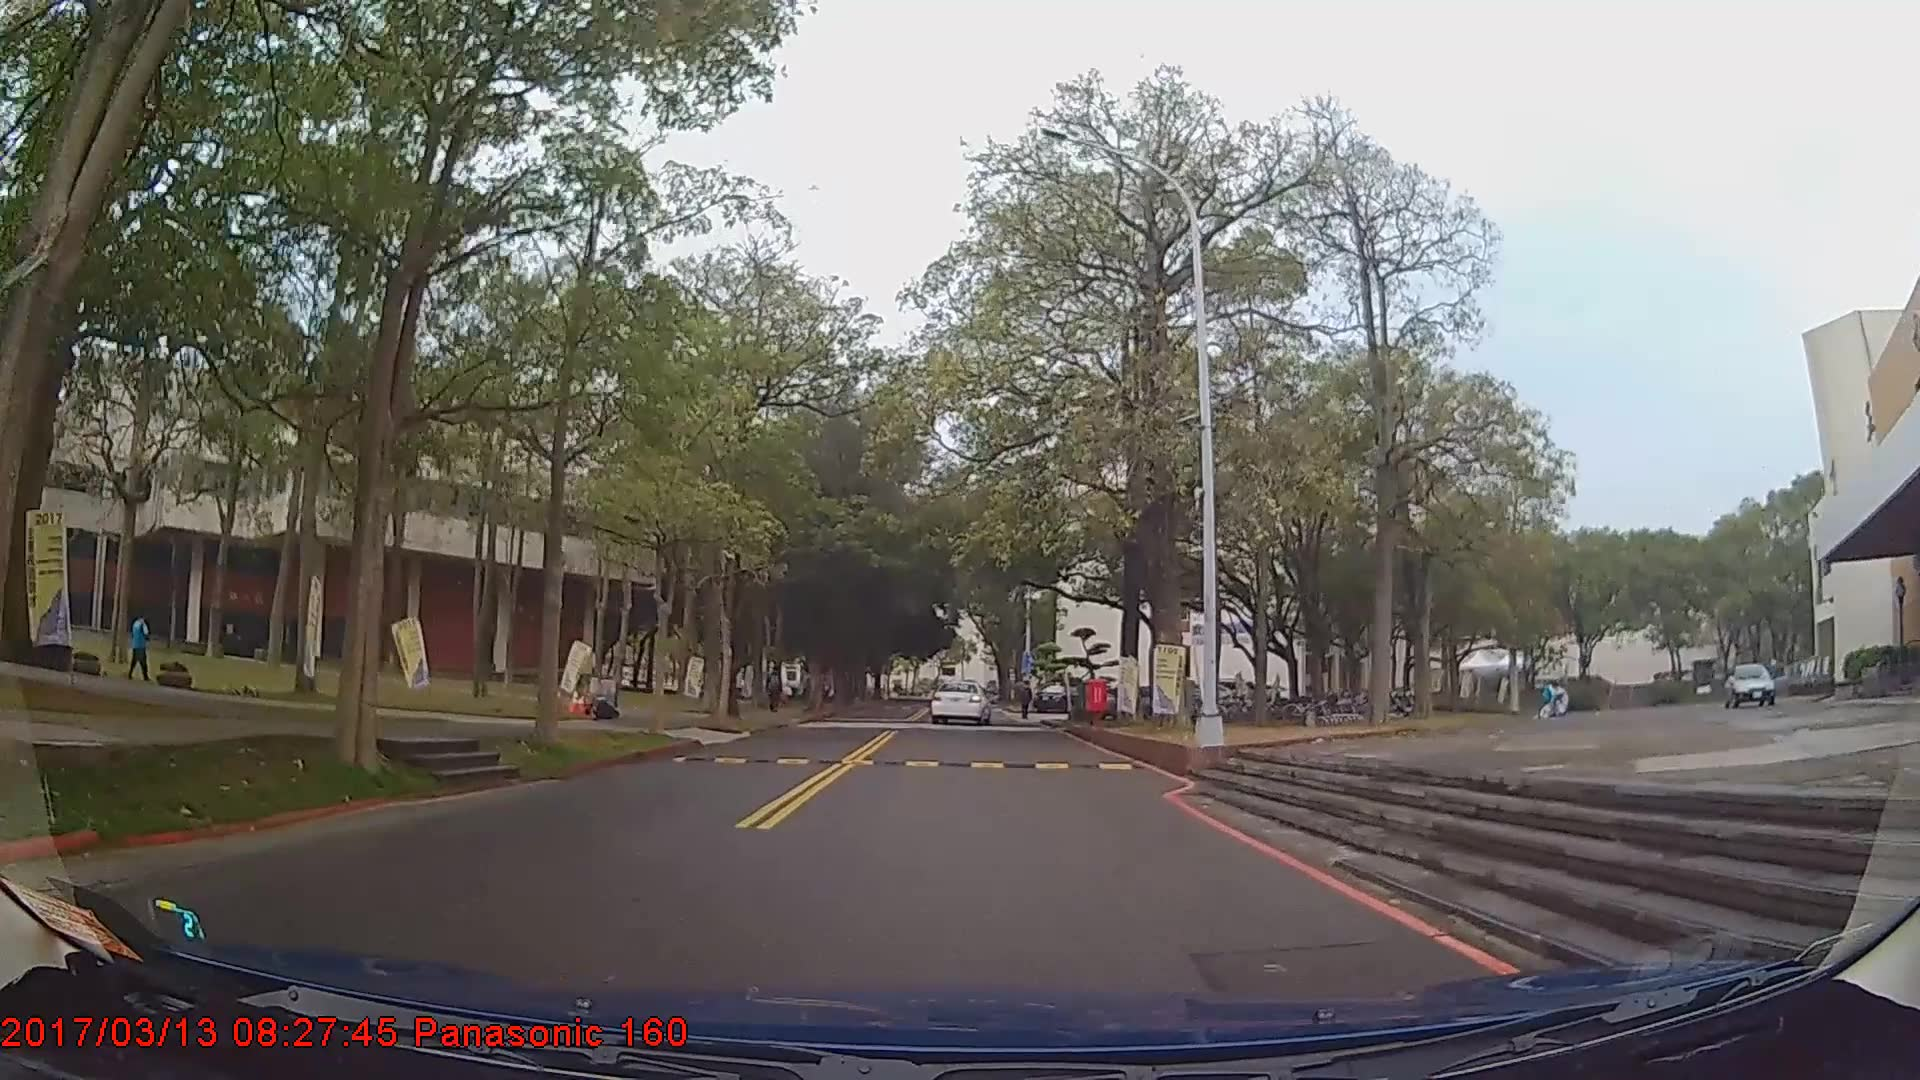pedestrian: (128, 608, 152, 686), (762, 663, 784, 712)
vehicle: (1720, 653, 1791, 703), (931, 679, 993, 726)
